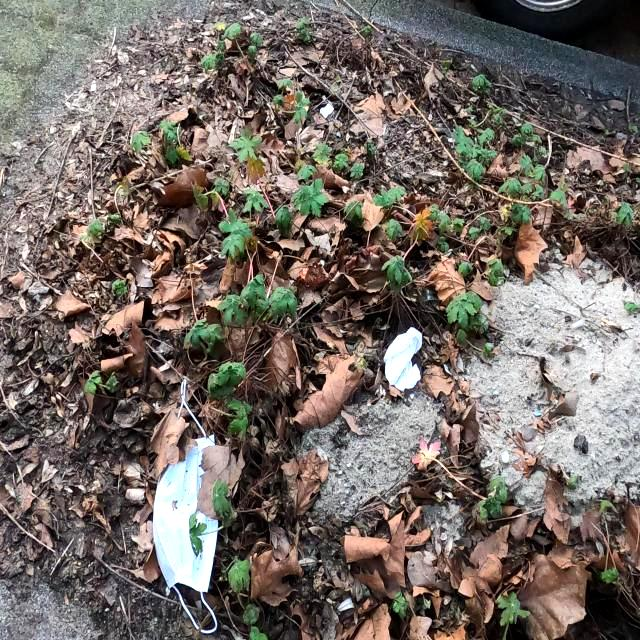Mask: (150, 374, 222, 634)
Paper: (382, 325, 424, 393)
